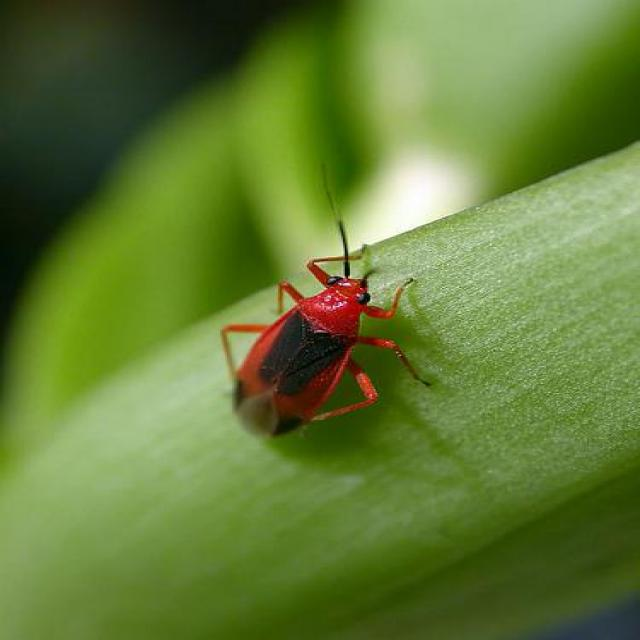Miridae-Adult-: (220, 154, 442, 444)
